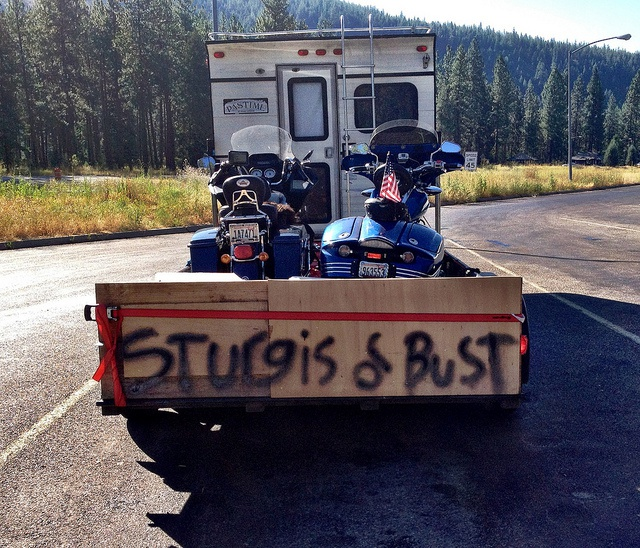non-vehicle: (320, 117, 464, 286), (187, 127, 324, 285)
